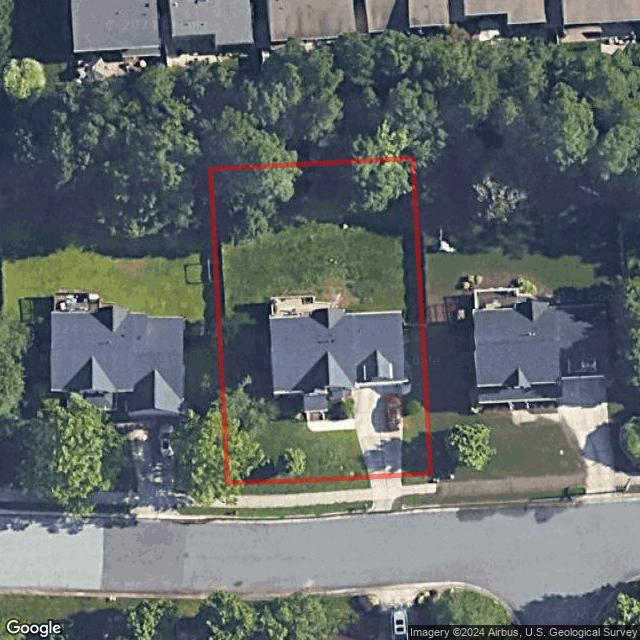Driveway: (353, 385, 405, 477)
Extra-Driveway: (365, 475, 402, 513)
Extra-Lawn: (229, 476, 372, 496), (227, 501, 373, 517), (394, 494, 433, 510), (402, 473, 431, 486)
Extra-Sidewalk: (228, 489, 373, 509), (396, 483, 435, 498)
House: (269, 309, 405, 412)
Lawn: (208, 158, 431, 483)
Other: (270, 295, 332, 319)
Sidewalk: (305, 411, 356, 431)
